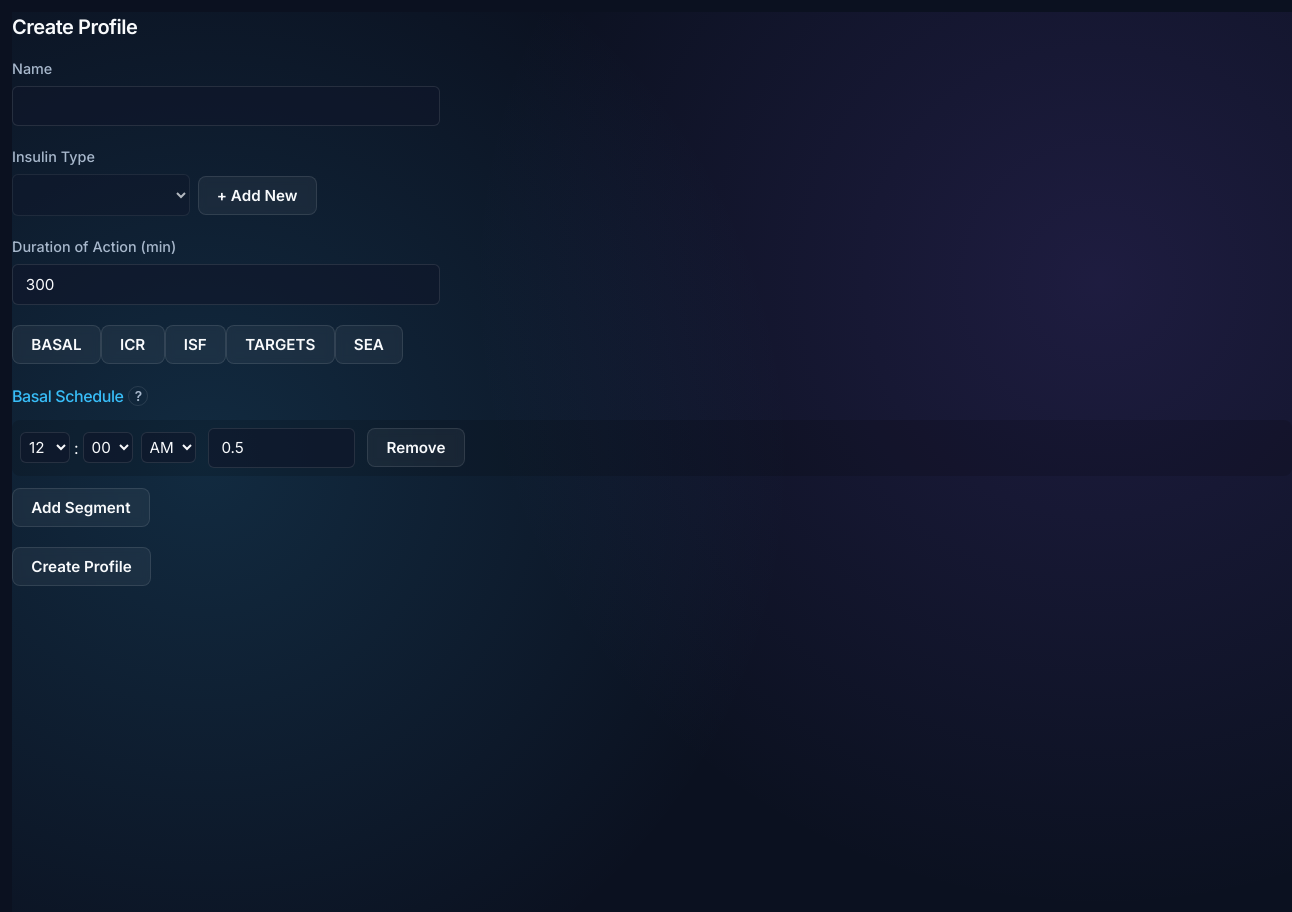
Test case: ProfileEditor › clicking TARGETS tab shows Add Target Segment button
This screenshot has width=1292, height=912.
Click the button "TARGETS".
click(280, 344)  # box [226,325,334,364]
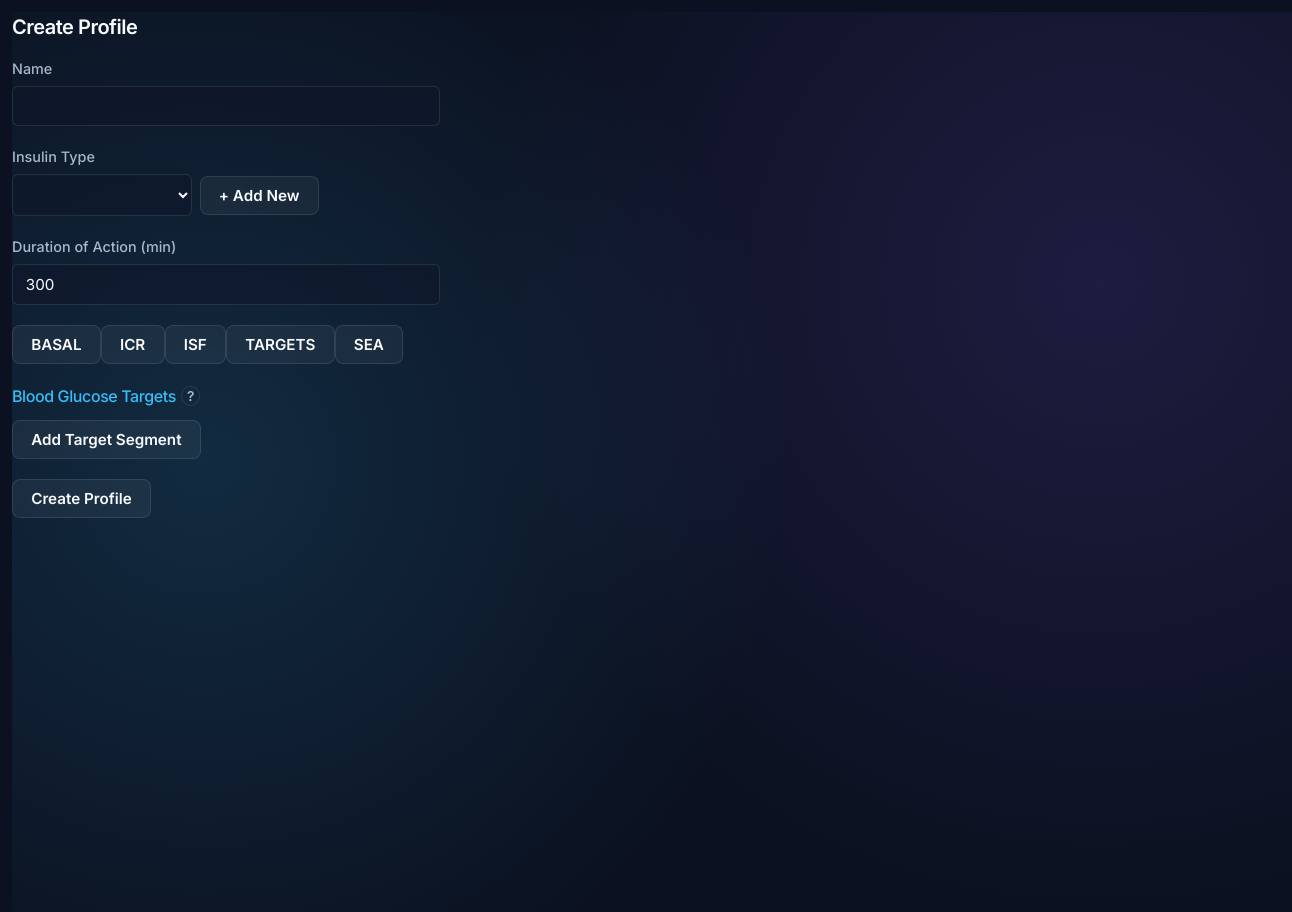
Result: the button "Add Target Segment" is shown at [12,420,201,459]
